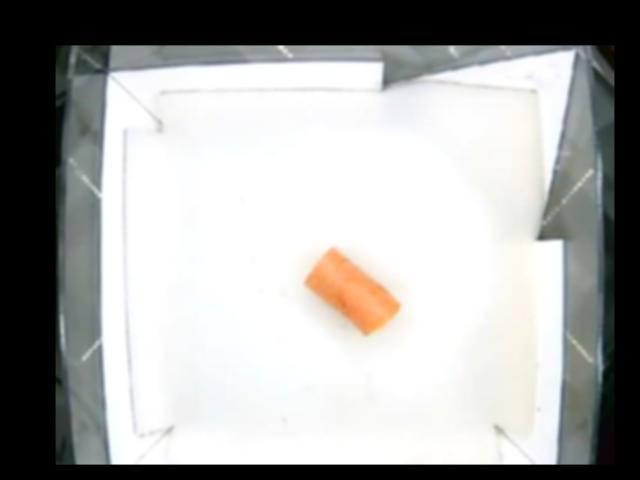Carrot: (302, 245, 402, 334)
